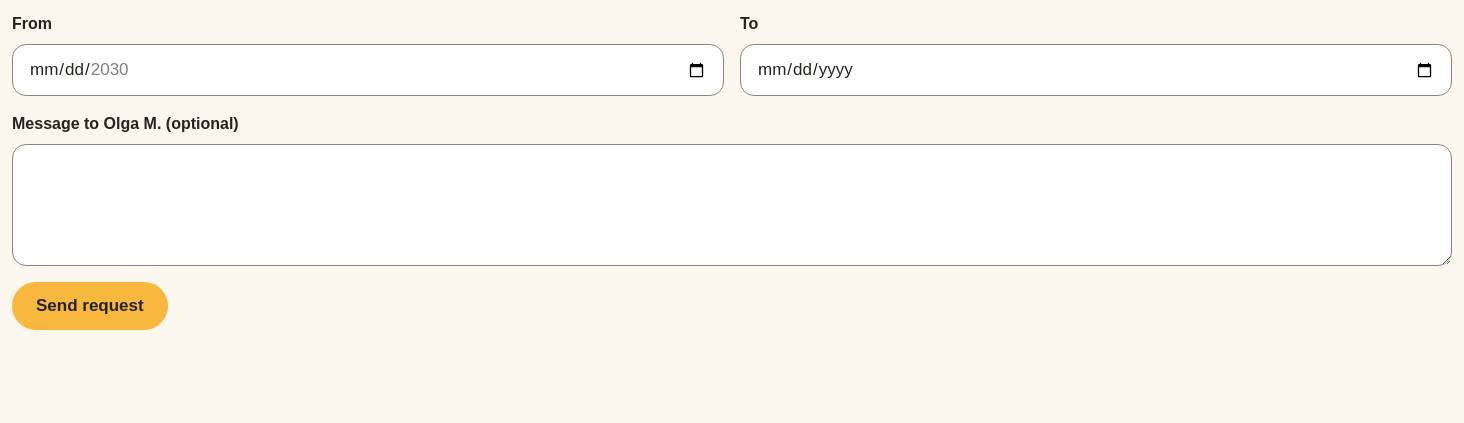
Test: RequestLoanForm › formError unexpected reads its sentence
Click the button "Send request" at (90, 306), box top-left (12, 282), bottom-right (168, 330)
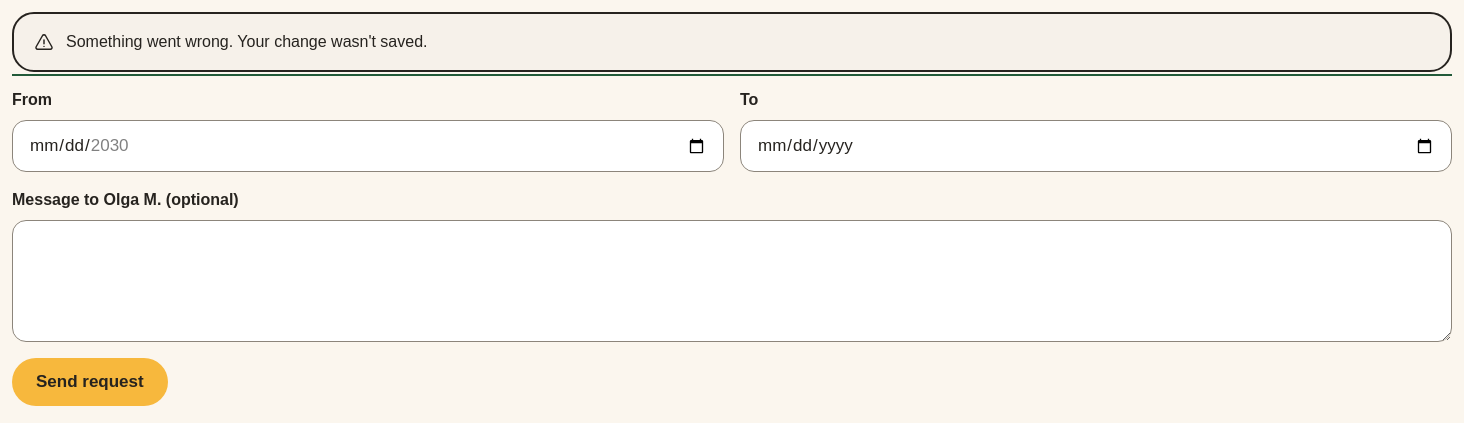
Result: the text "Something went wrong. Your change wasn't saved." is shown at top-left (66, 33), bottom-right (428, 50)
